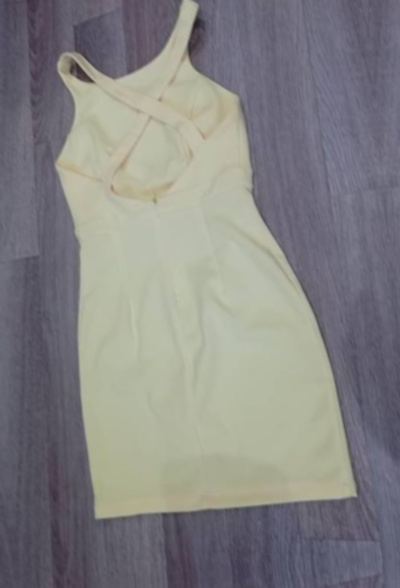Dress: (21, 0, 367, 553)
